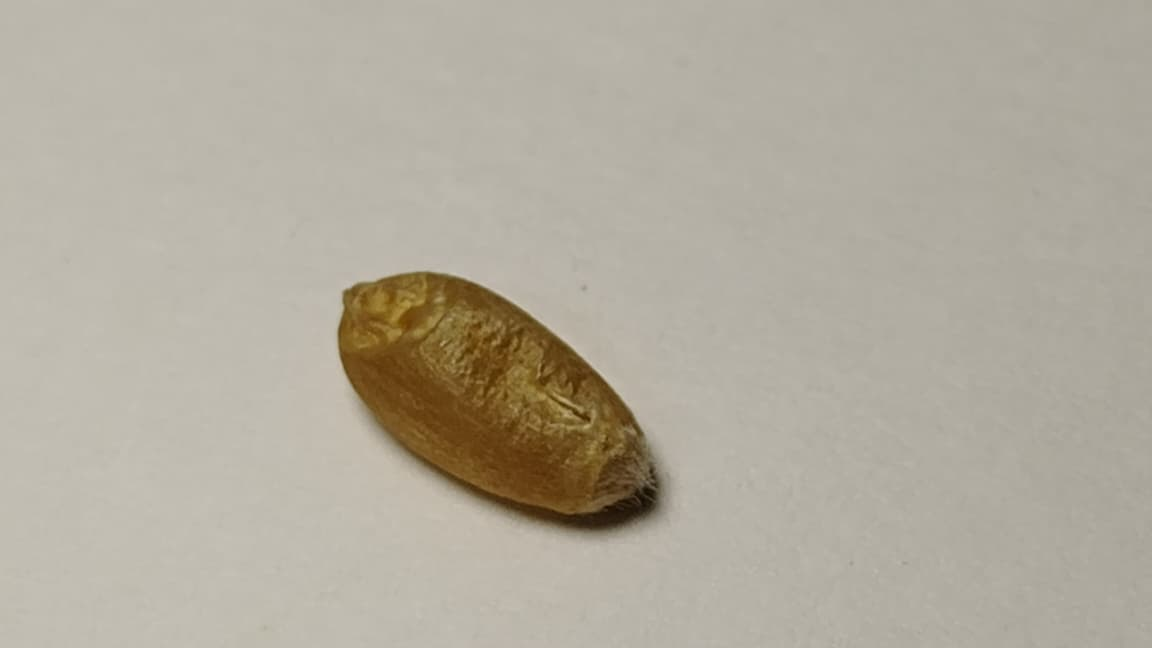healthy: (339, 272, 650, 513)
